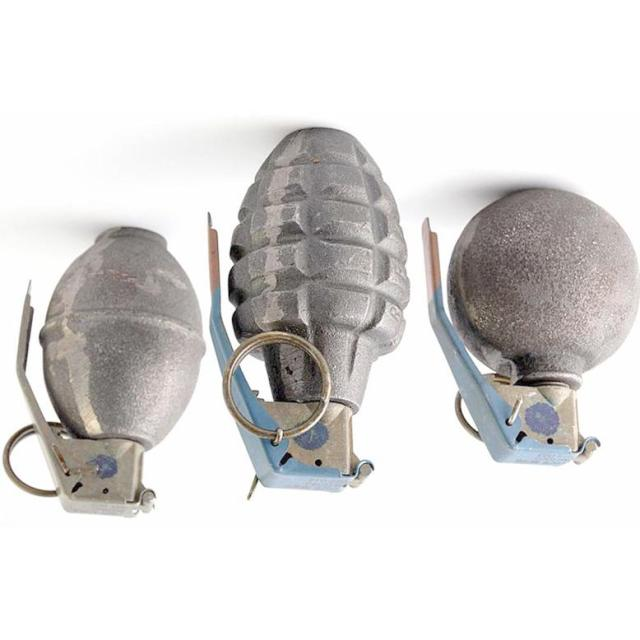grenade: (208, 126, 411, 502), (422, 186, 640, 469), (3, 224, 208, 518)
